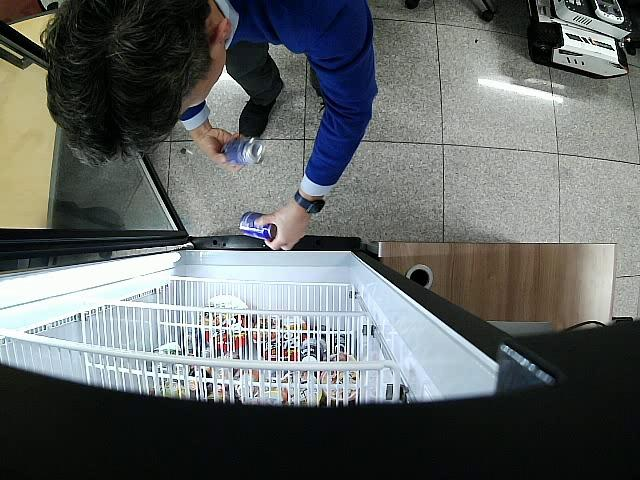00_hand: (255, 203, 309, 250), (196, 128, 248, 172)
14_welchsGrape: (219, 138, 266, 165), (239, 211, 276, 240)
